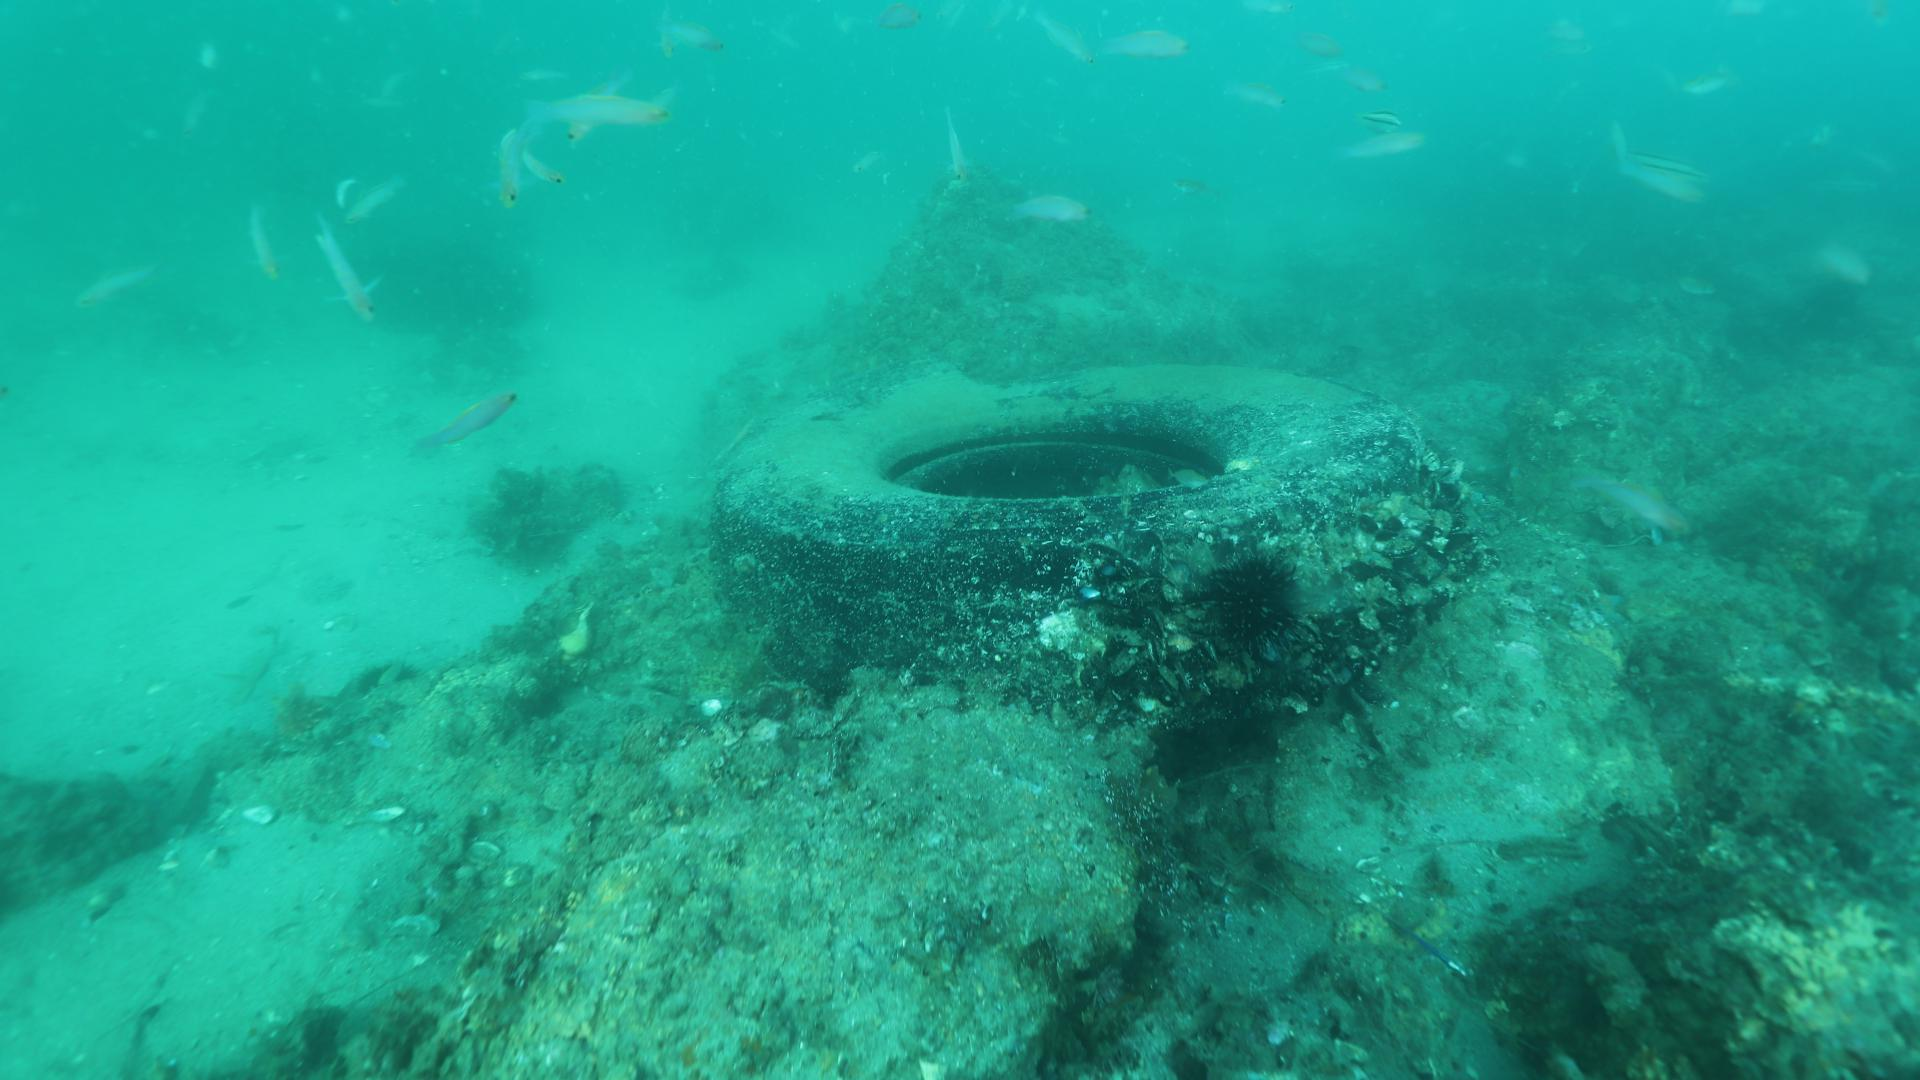tire: (713, 356, 1456, 736)
